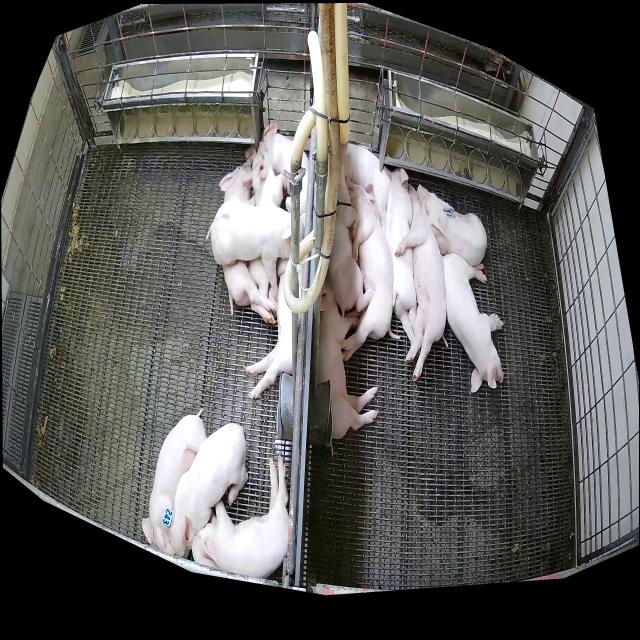pig: (160, 422, 248, 559), (192, 455, 289, 579), (393, 183, 448, 382), (317, 278, 378, 457), (342, 180, 400, 361), (206, 201, 306, 301), (142, 407, 207, 555), (219, 159, 276, 324), (441, 253, 504, 393), (244, 257, 301, 399), (242, 142, 287, 317), (326, 163, 375, 318), (245, 122, 309, 216), (383, 165, 416, 346), (417, 184, 487, 266), (340, 143, 391, 236)
